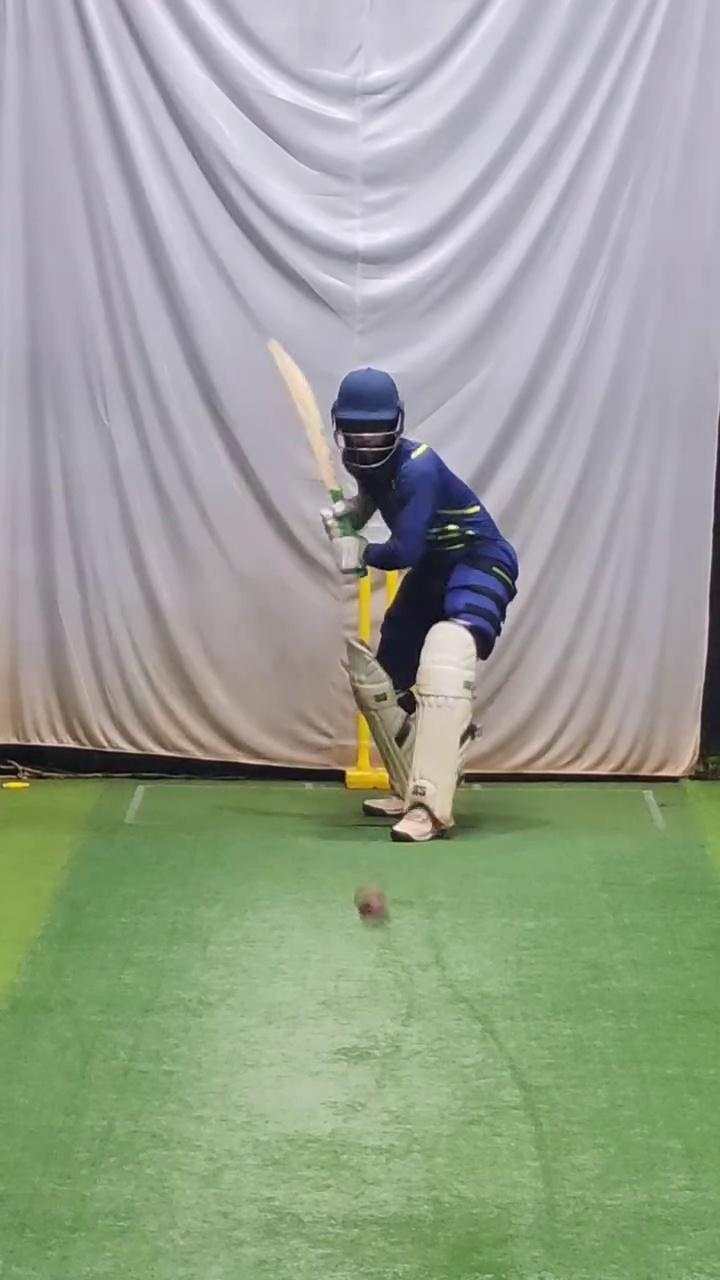bat: (262, 327, 342, 494)
